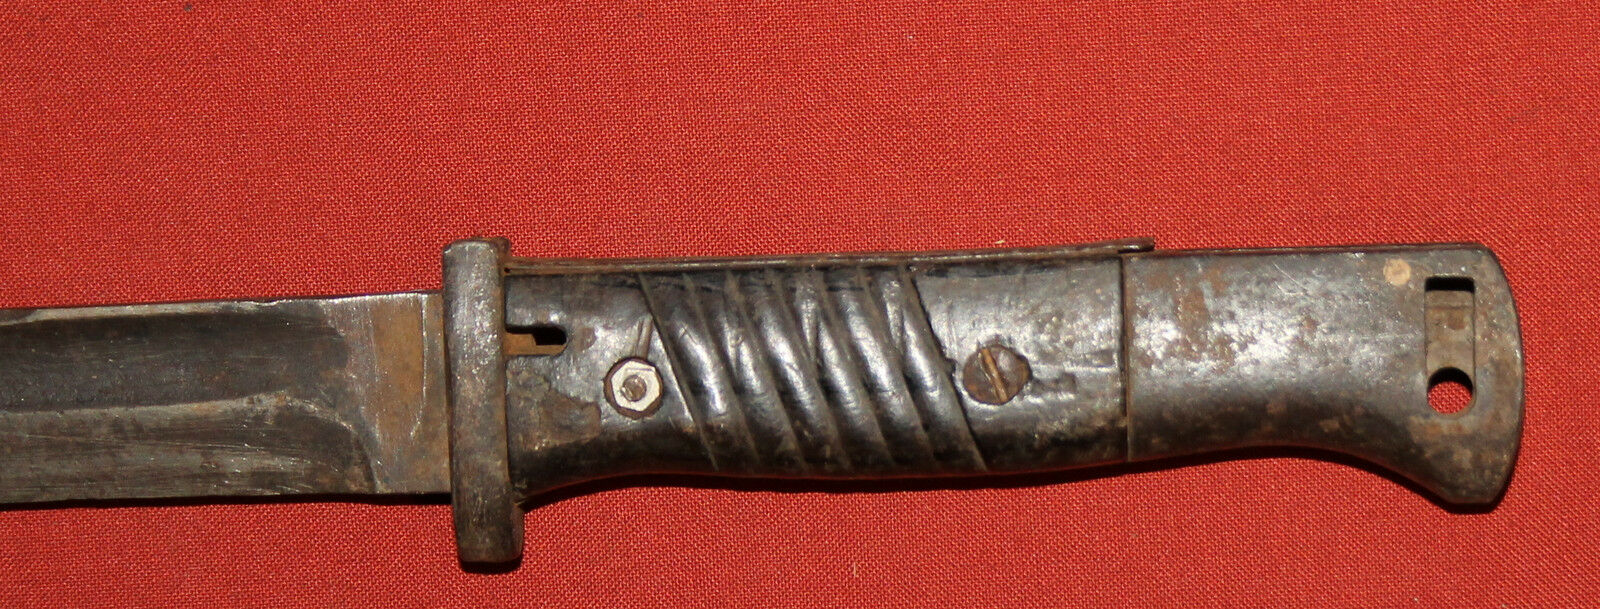knief: (5, 190, 1534, 569)
